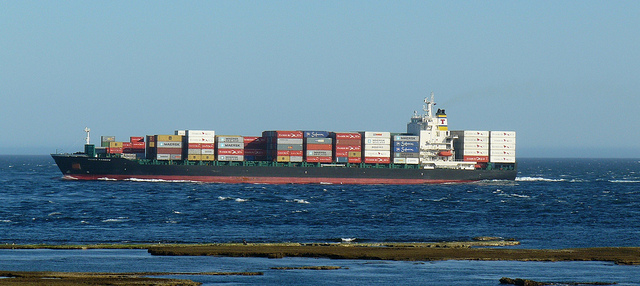container_ship: (53, 92, 517, 186)
